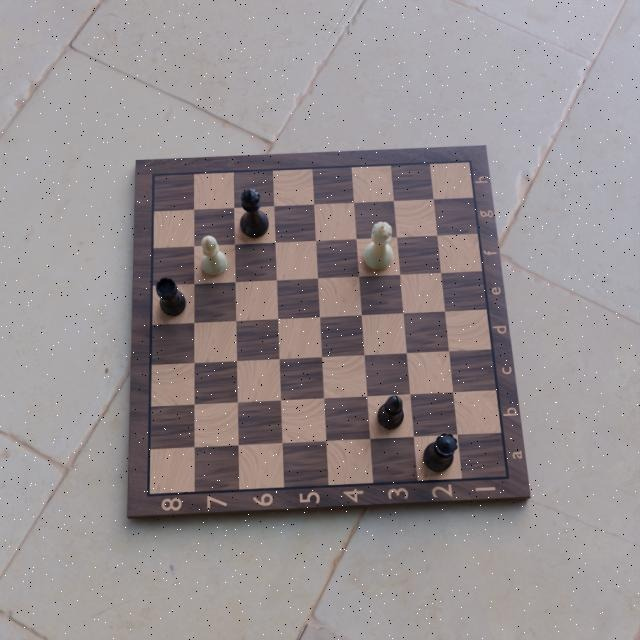black-bishop: (376, 393, 408, 431)
black-king: (237, 185, 271, 240)
black-queen: (422, 428, 457, 473)
black-rook: (154, 275, 186, 320)
white-bishop: (200, 232, 229, 280)
white-king: (362, 217, 398, 274)
